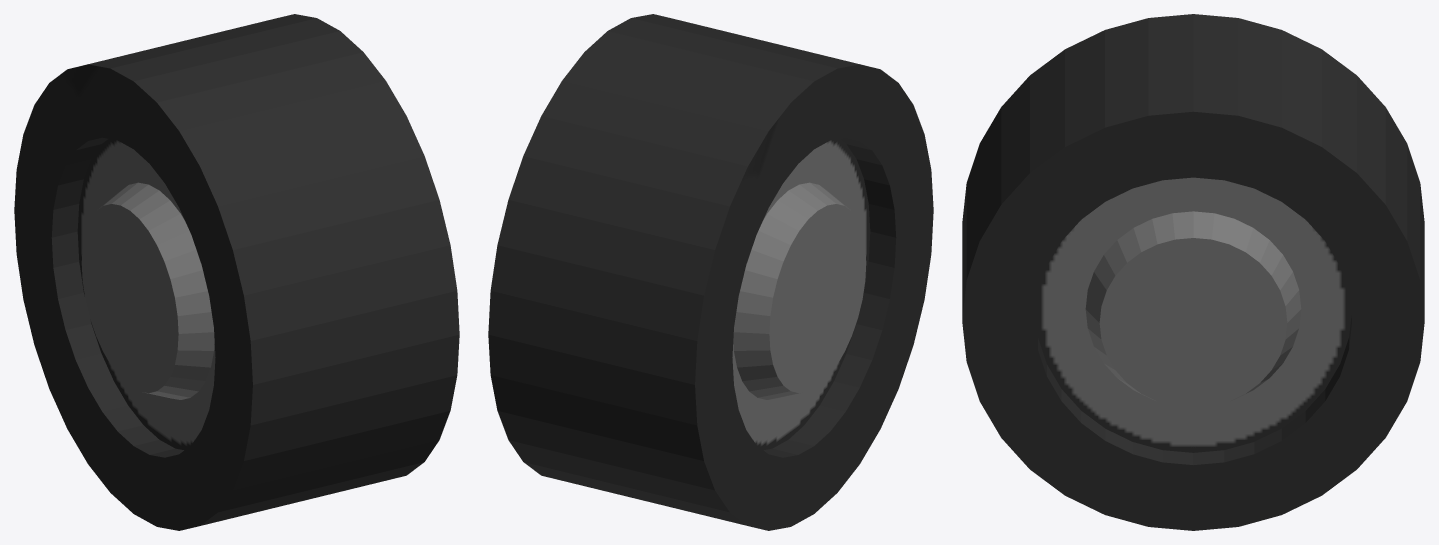
The model's file is TrackCarTire.obj.
3 views of the same model, side by side, from view 1: azimuth 30°, elevation 25°; view 2: azimuth 150°, elevation 25°; view 3: azimuth 270°, elevation 25° (orthographic). The views are drawn at different scales.
Parts seen in each view (by area): view 1: タイヤ; view 2: タイヤ; view 3: タイヤ.
Part boxes in pixels (x1=…): タイヤ: x1=14, y1=14, x2=459, y2=530; タイヤ: x1=488, y1=14, x2=933, y2=530; タイヤ: x1=962, y1=14, x2=1424, y2=530.
Bounding box in the file's own units: 0.3308 × 0.64 × 0.64.
Materials: 1 (1 with a texture image).
